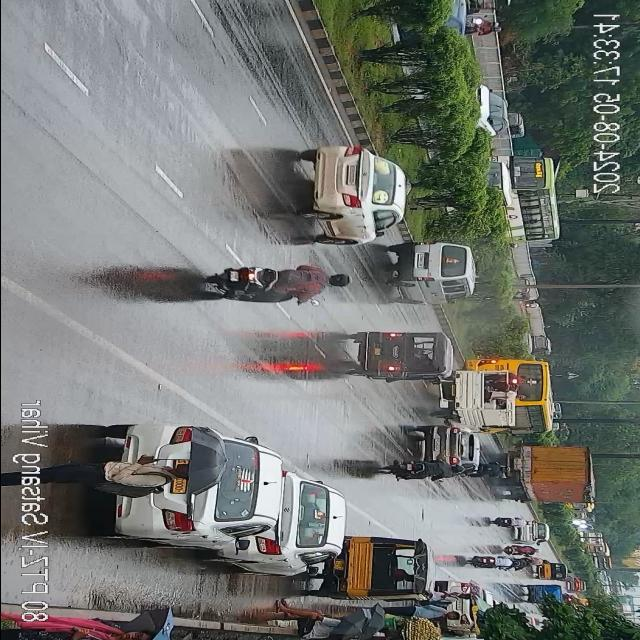2-wheelers: (204, 264, 354, 304), (383, 459, 459, 485), (466, 554, 520, 568), (466, 15, 500, 37), (488, 518, 532, 530), (472, 463, 512, 474), (503, 546, 541, 555), (524, 558, 548, 567)
auto: (328, 532, 434, 600), (344, 324, 453, 382), (520, 585, 560, 603), (532, 560, 566, 580)
bus: (438, 362, 559, 438), (483, 152, 557, 246)
car: (136, 434, 278, 550), (298, 143, 411, 247), (231, 476, 338, 570), (386, 238, 473, 303), (417, 422, 480, 478), (436, 576, 488, 630), (474, 84, 510, 130), (514, 527, 552, 543)
pedestrian: (0, 597, 188, 640), (44, 453, 221, 493), (271, 602, 351, 638), (384, 604, 460, 620), (430, 592, 470, 602)
truck: (504, 441, 598, 508), (434, 370, 518, 430)
